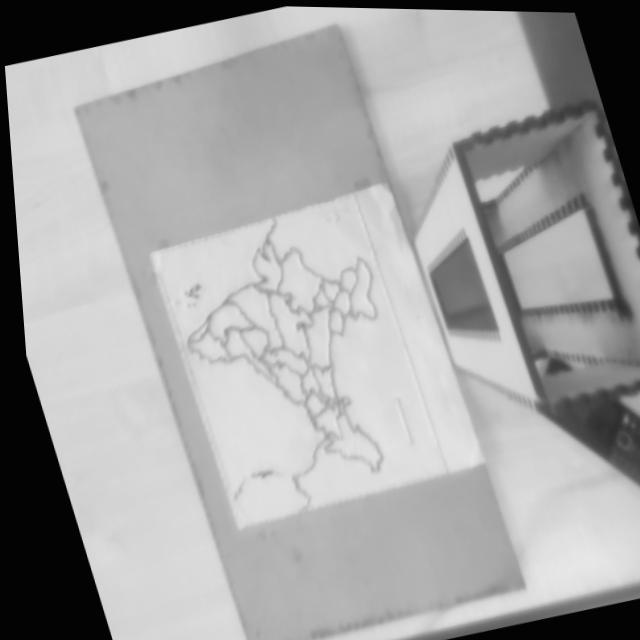map: (147, 185, 448, 541)
